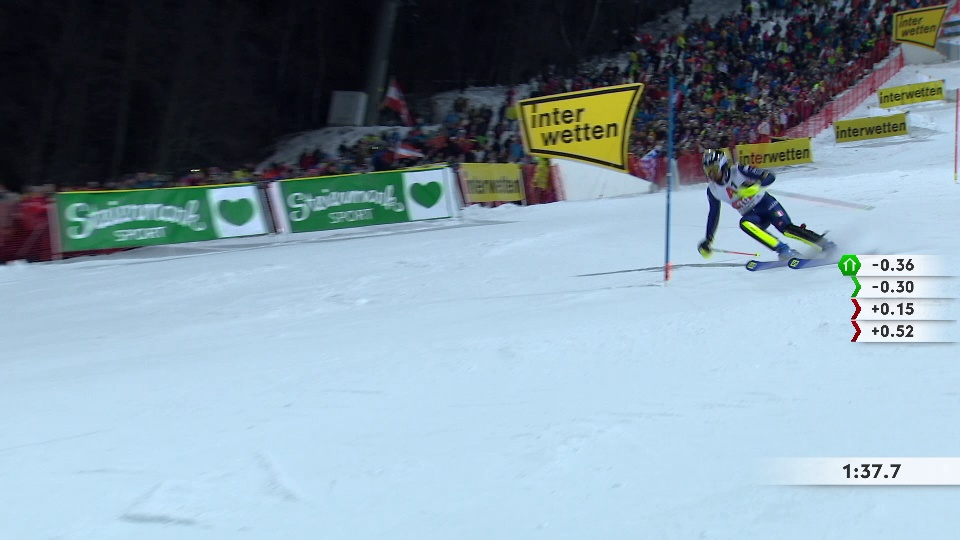interwetten: (522, 94, 637, 163), (889, 10, 950, 47), (837, 117, 907, 144), (738, 144, 817, 167), (883, 84, 947, 108)
steiermark: (290, 170, 457, 232), (75, 193, 271, 243)
